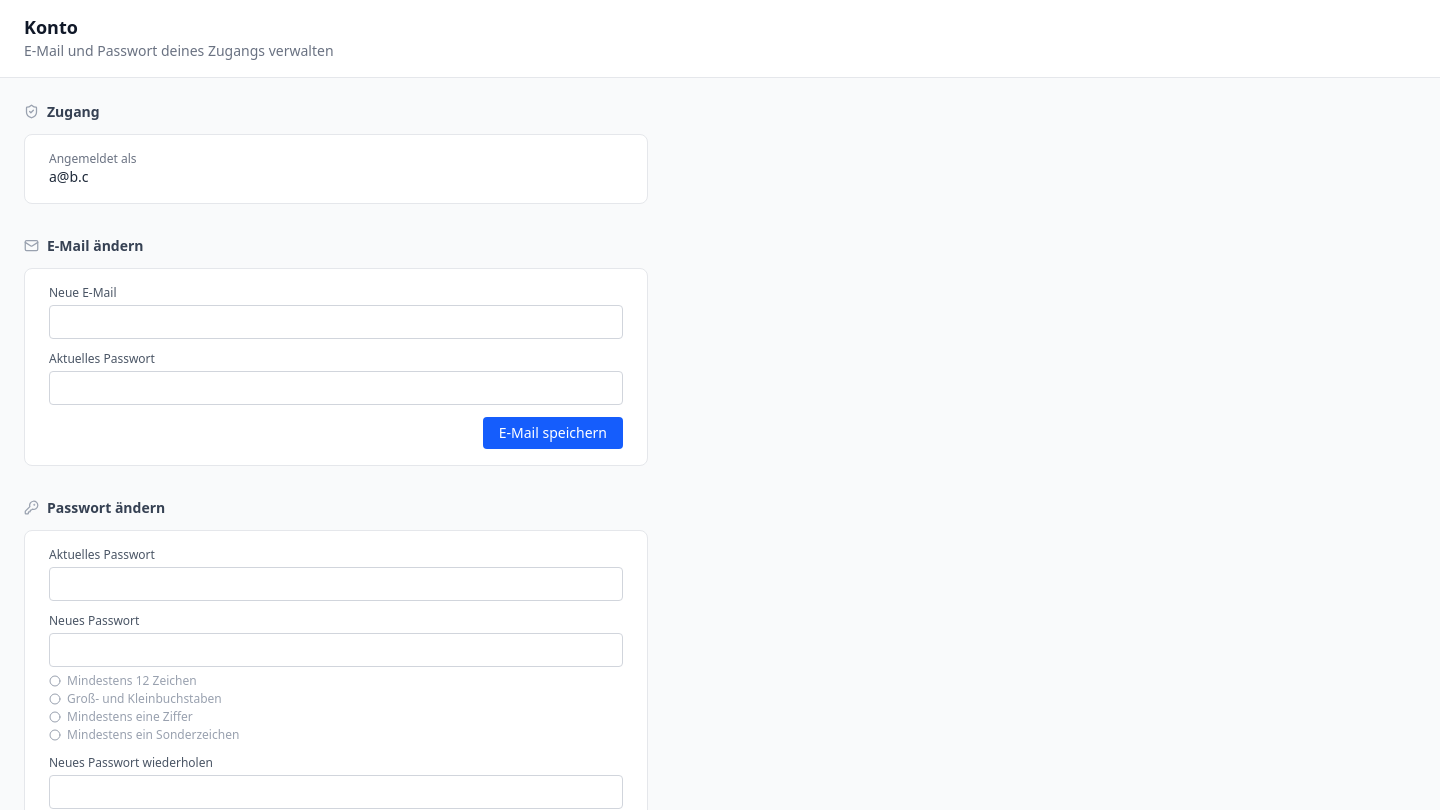
Test case: AccountPage password change › verifies the current password, then PATCHes the new one
Expected: the text "Angemeldet als" is shown, [49,150,136,166]
Type "secret" into the password field with id "acc-cur-pw" at (336, 584), box [49,566,623,600]
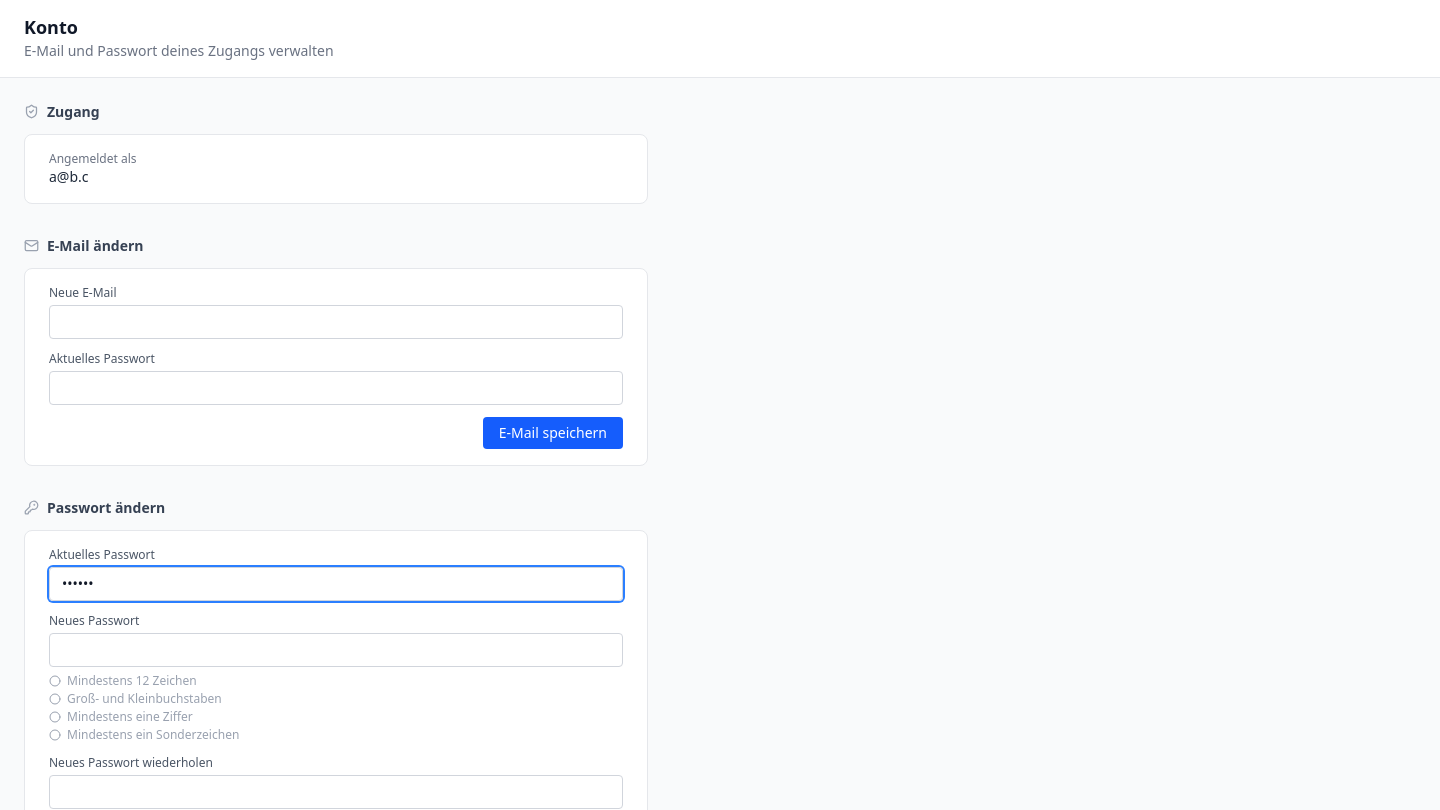
Type "Pw123456789!" into the password field with id "acc-new-pw" at (336, 650), box [49,632,623,666]
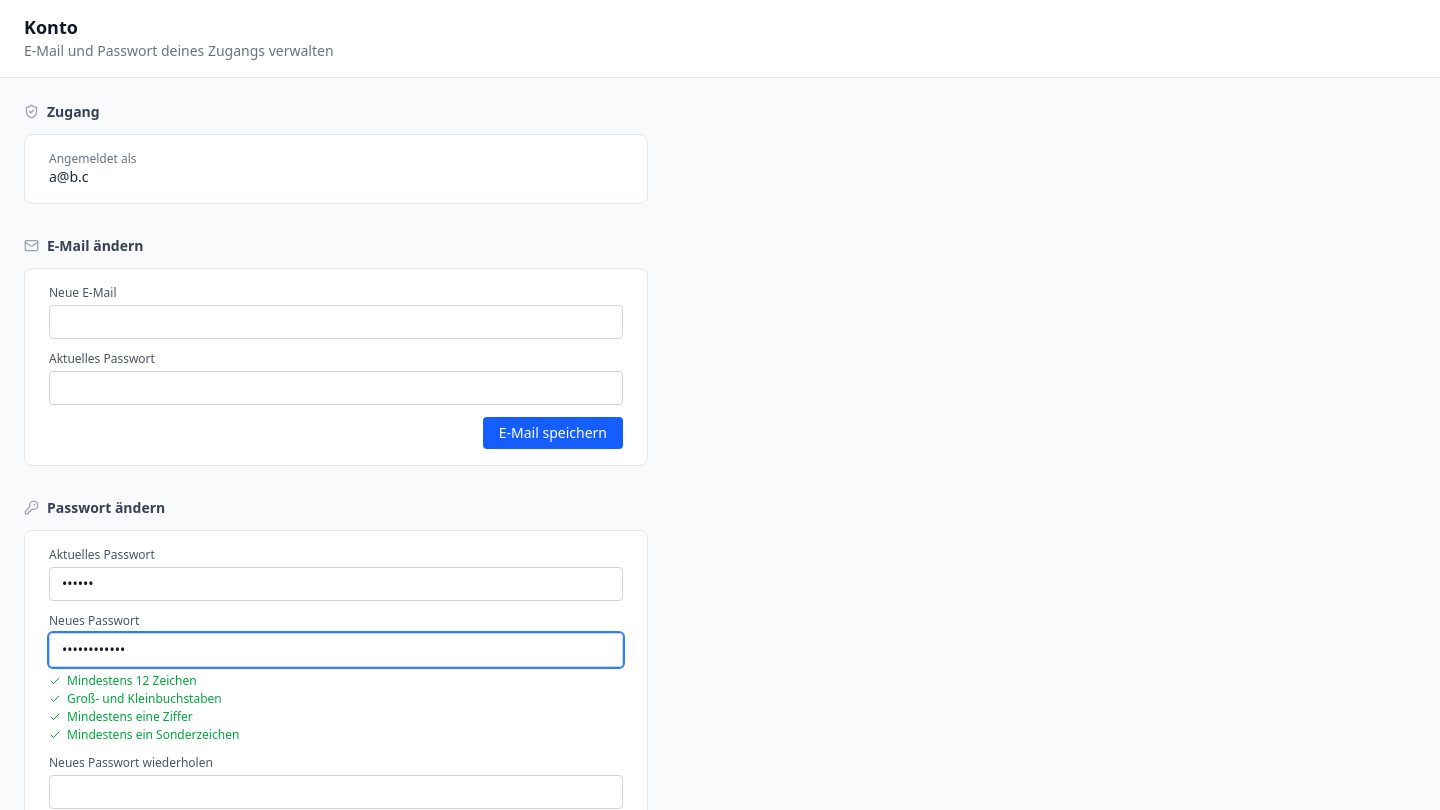
Type "Pw123456789!" into the password field with id "acc-new-pw2" at (336, 792), box [49,774,623,808]
(page scrolled)
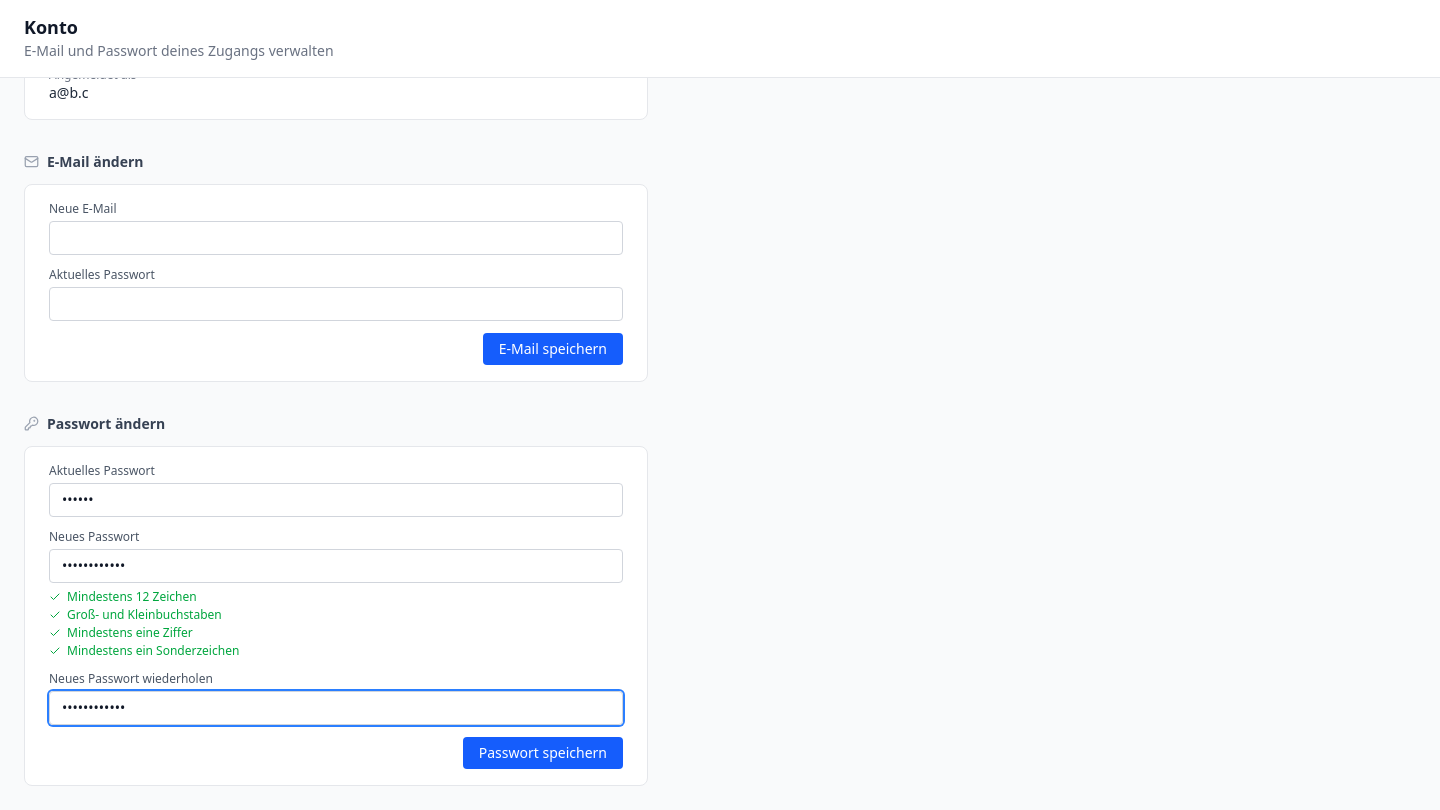
Click the button "Passwort speichern" at (543, 752), box [463,736,623,768]
(page scrolled)
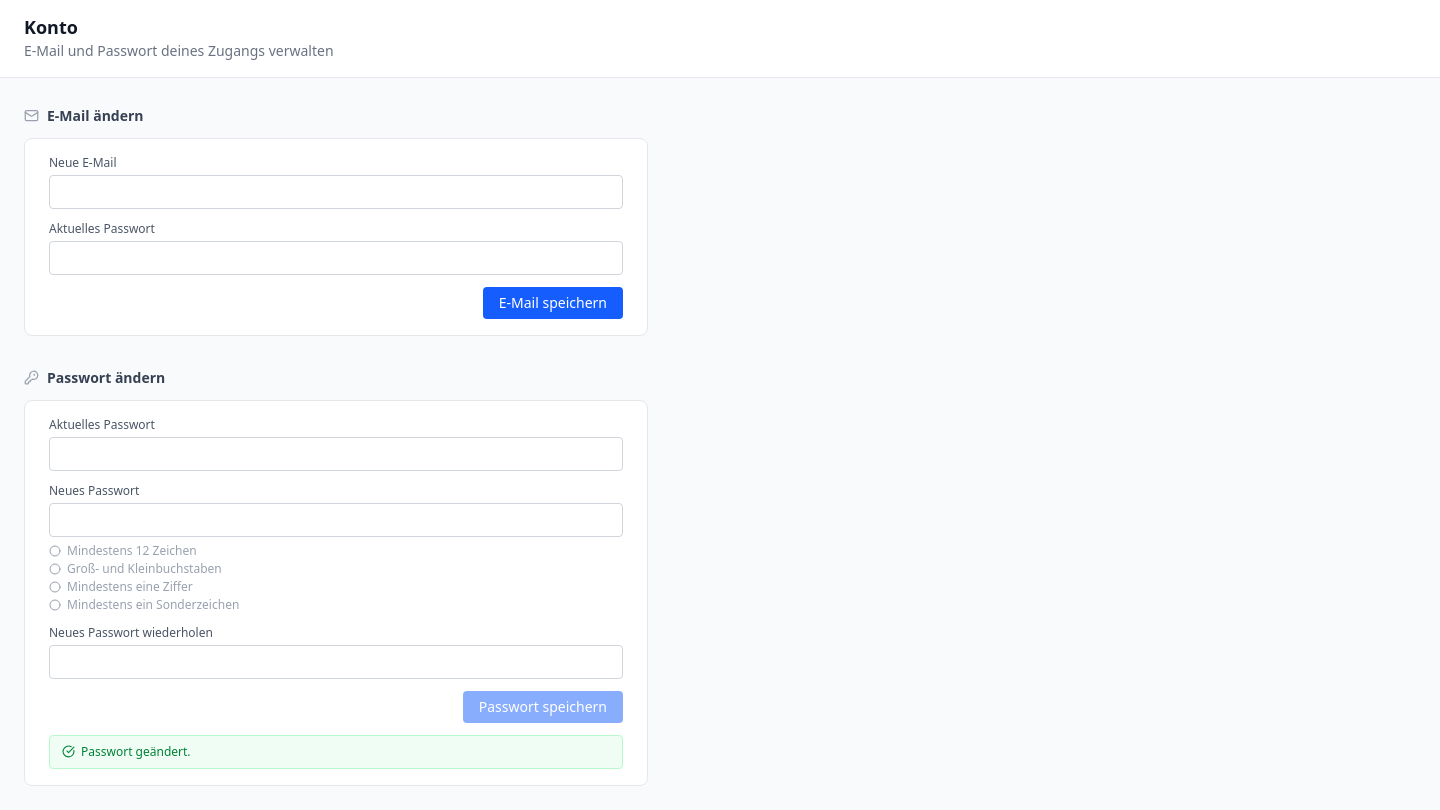
Expected: the text "Passwort geändert." is shown, [49,734,623,768]
